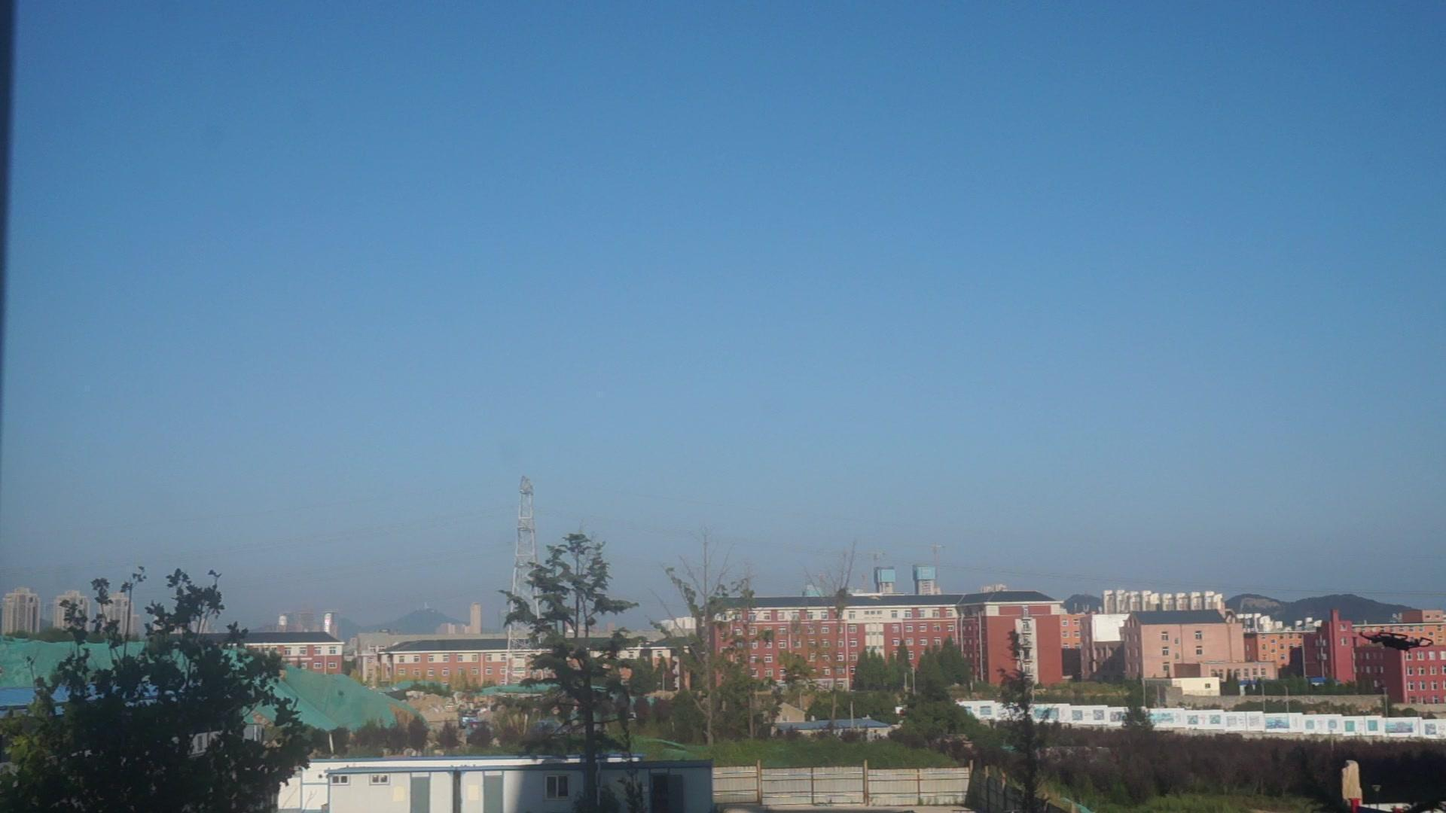UAV: (1359, 632, 1435, 653)
